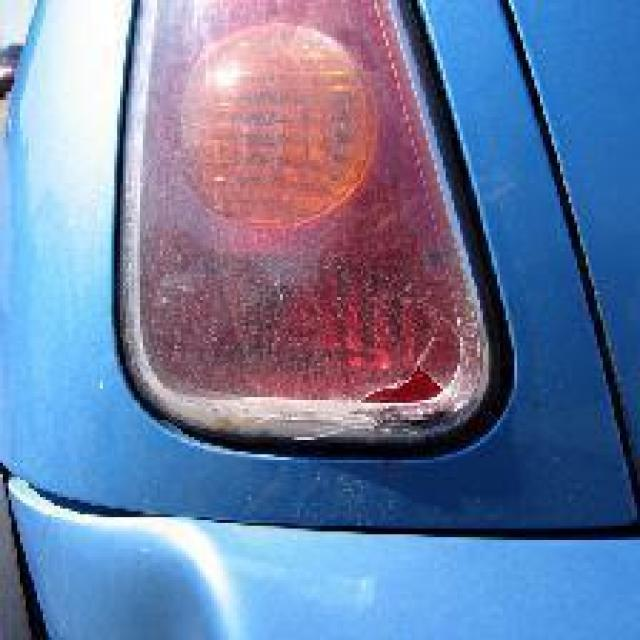damaged: (329, 326, 497, 458)
